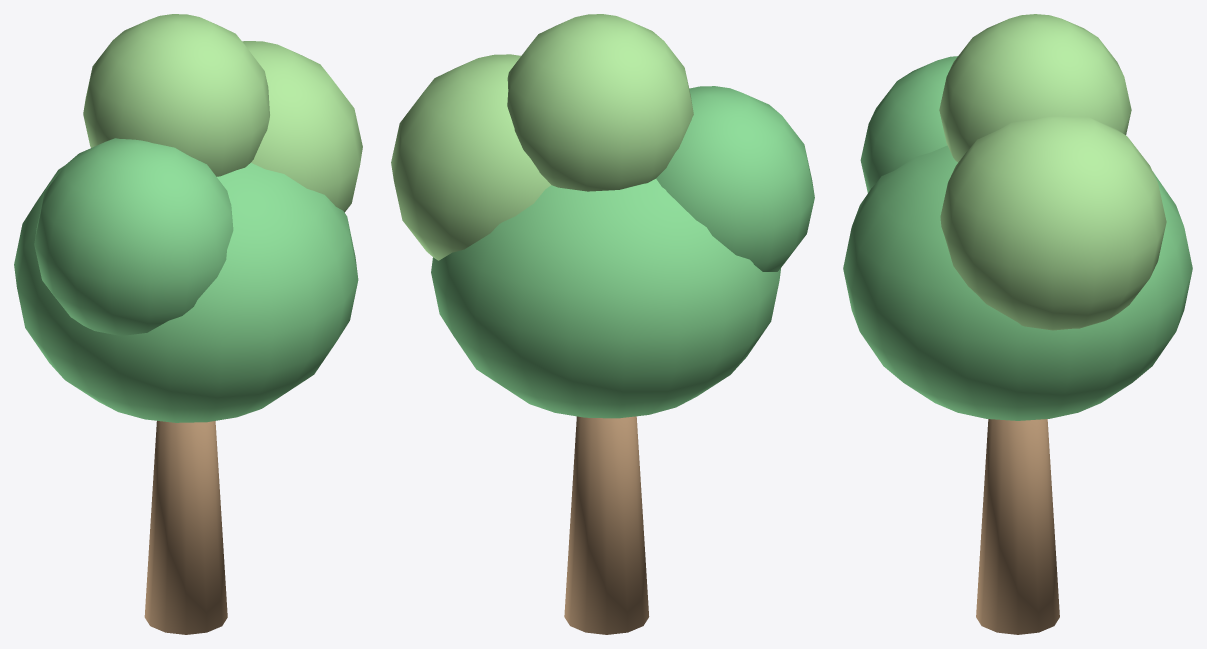
File: Tree.fbx
3 renders of one model, left to right at view 1: azimuth 30°, elevation 25°; view 2: azimuth 150°, elevation 25°; view 3: azimuth 270°, elevation 25°, orthographic. The views are drawn at different scales.
Parts seen in each view (by area): view 1: Tree; view 2: Tree; view 3: Tree.
Boxes of the visible parts, <box> form: Tree: <box>14,14,362,634</box>; Tree: <box>391,14,814,634</box>; Tree: <box>843,14,1192,634</box>.
Bounding box in the file's own units: 2.3 × 3.75 × 2.
